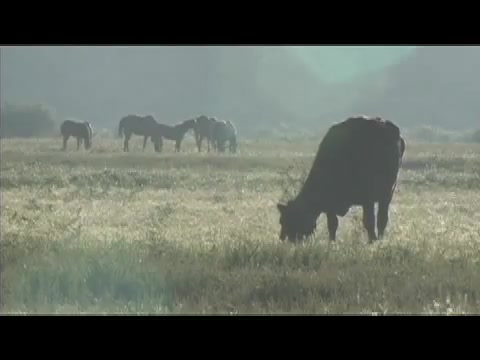cow: (280, 116, 409, 247), (117, 113, 167, 156), (153, 117, 200, 153), (197, 116, 240, 153), (59, 119, 97, 151), (218, 123, 237, 150)
